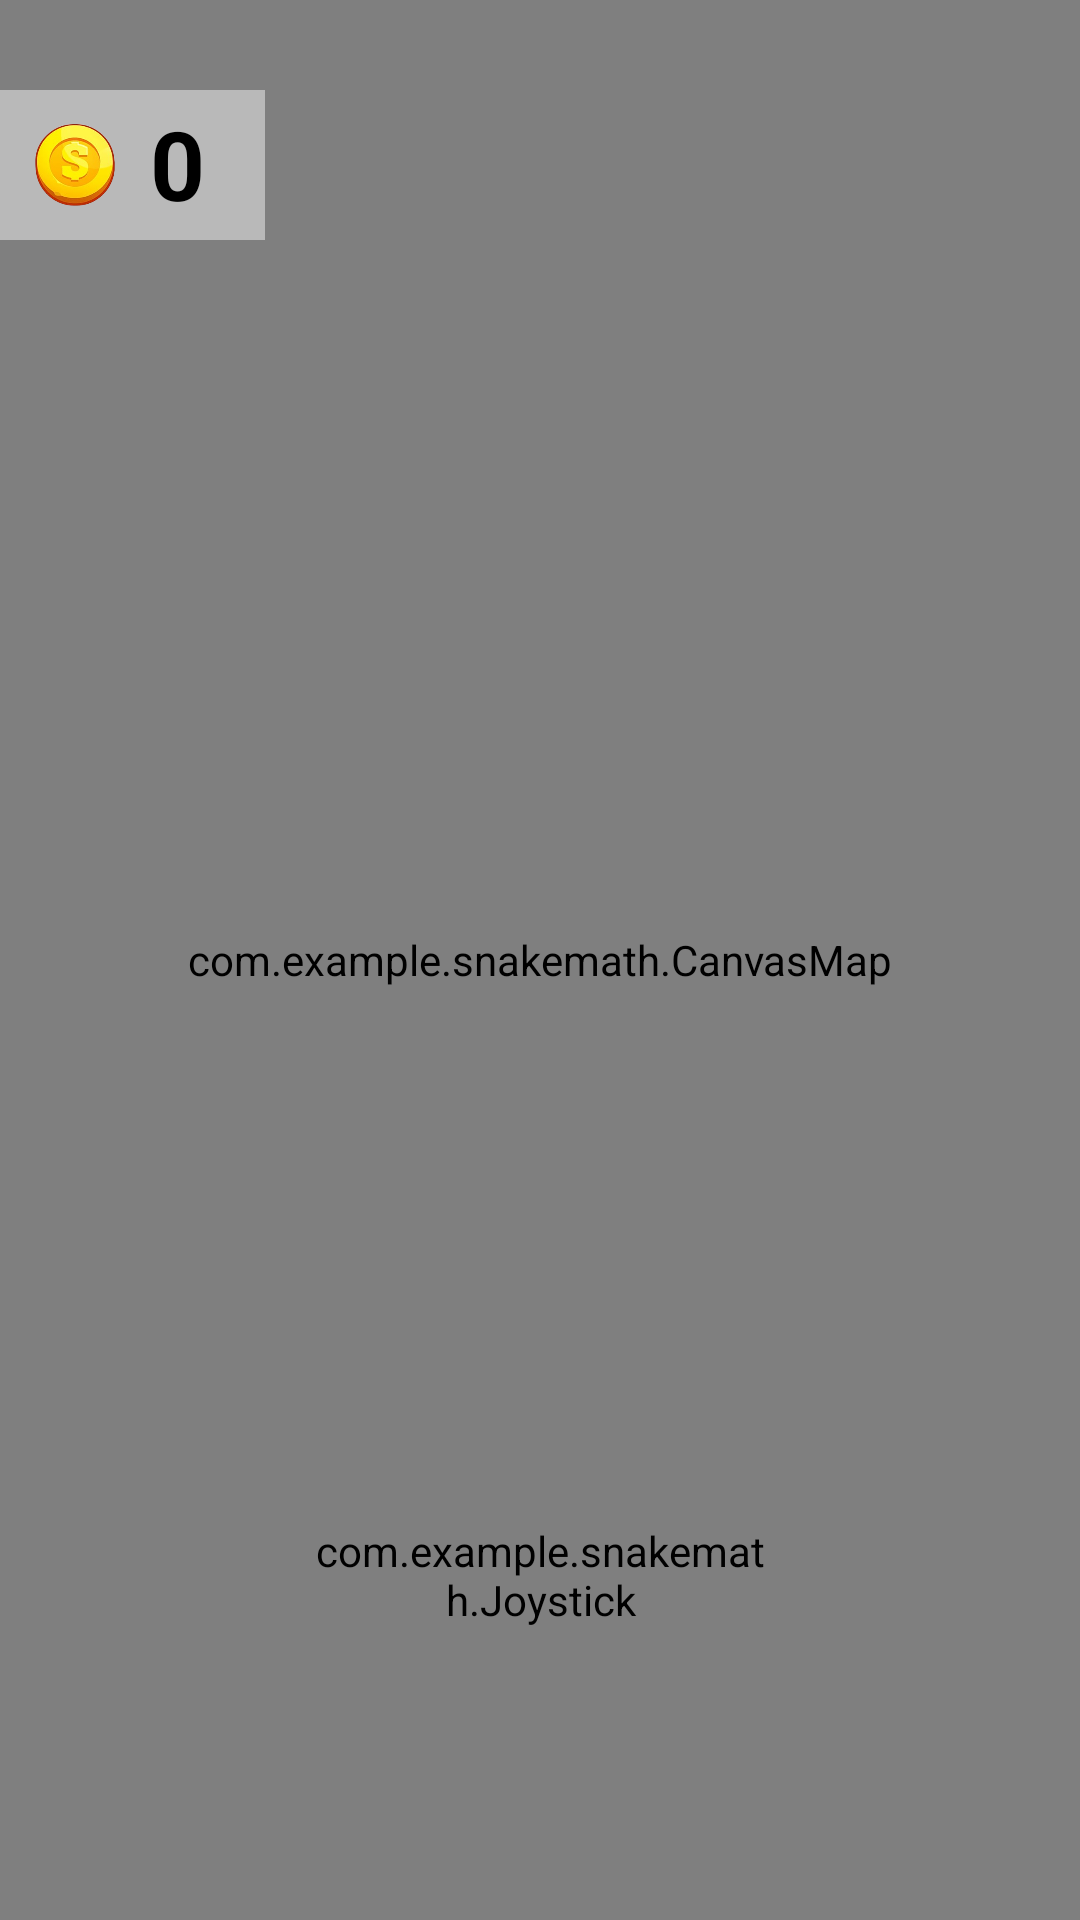

Point at icon controls on the screen. Image size 1080px x 1920px, points as point (x, y).
coin: point (75, 165)
